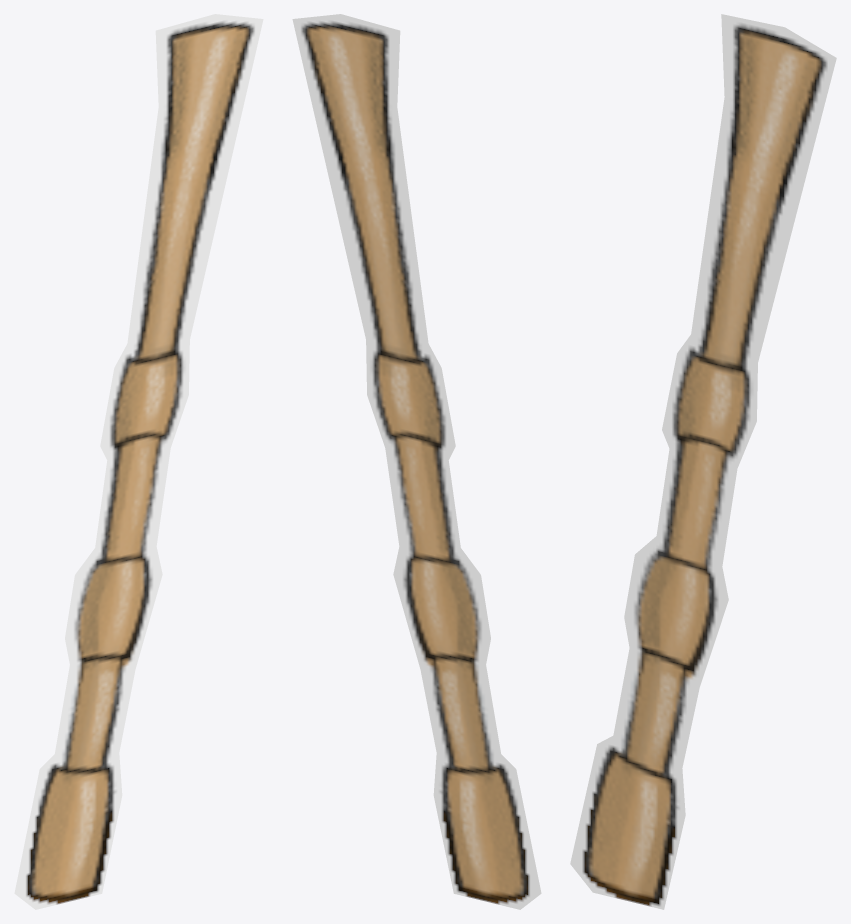
3 renders of one model, left to right at view 1: azimuth 30°, elevation 25°; view 2: azimuth 150°, elevation 25°; view 3: azimuth 330°, elevation 25°, orthographic. The views are drawn at different scales.
Parts seen in each view (by area): view 1: Plane; view 2: Plane; view 3: Plane.
Boxes of the visible parts, x1,y1,x2,y2 form: Plane: (14, 14, 263, 909); Plane: (292, 14, 541, 909); Plane: (570, 14, 836, 909).
Size of the model in its own units: 0.8324 by 2.72 by 0.
1 material, 1 textured.
